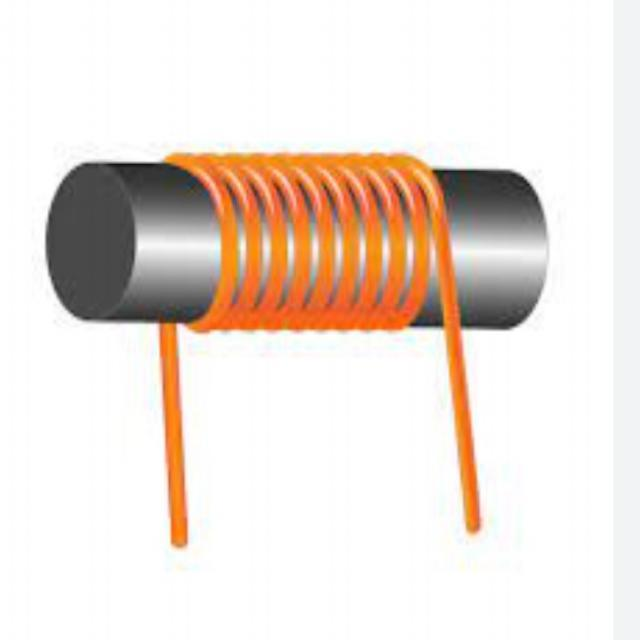Inductor: (46, 154, 548, 546)
